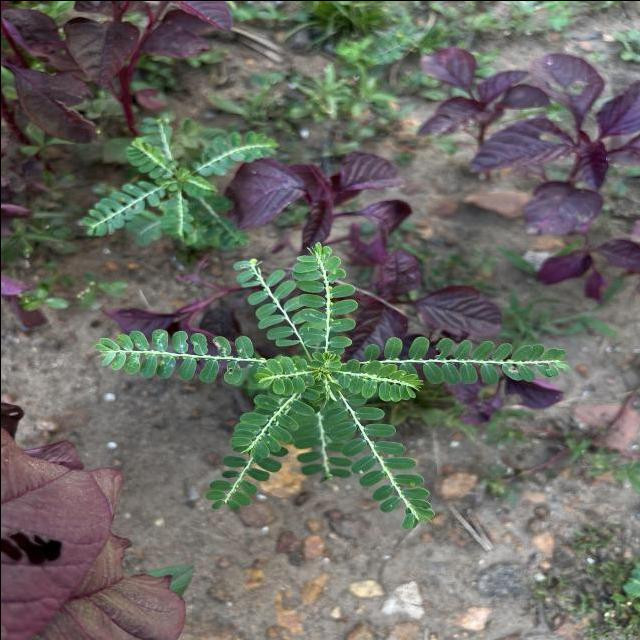Phyllanthus niruri: (322, 390, 437, 530), (359, 333, 572, 384), (92, 327, 255, 385), (290, 239, 358, 354), (228, 391, 314, 462), (338, 357, 423, 402), (251, 354, 318, 394)
